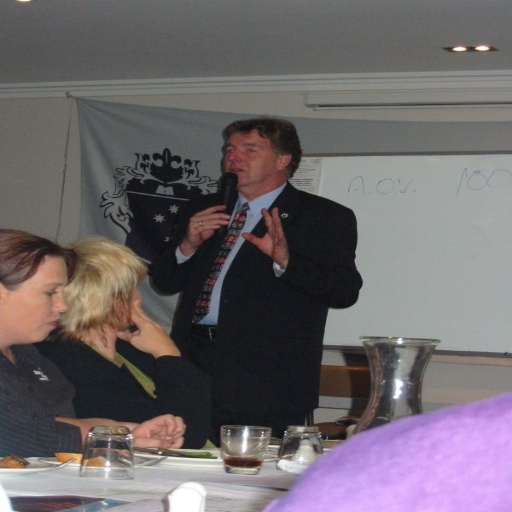hand: (116, 298, 175, 355), (238, 206, 288, 268), (128, 412, 185, 450), (184, 204, 231, 247), (110, 417, 141, 435)
